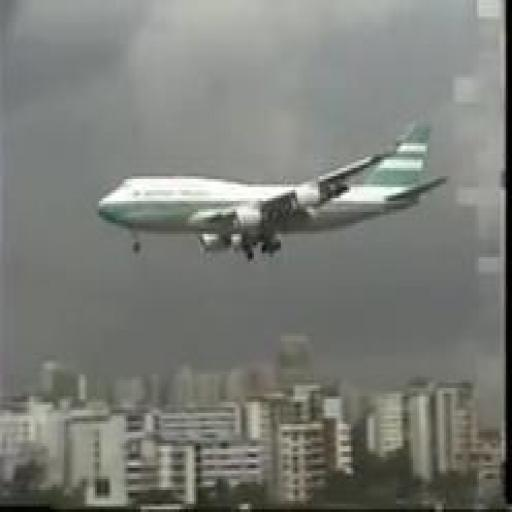aircraft: (93, 116, 452, 264)
